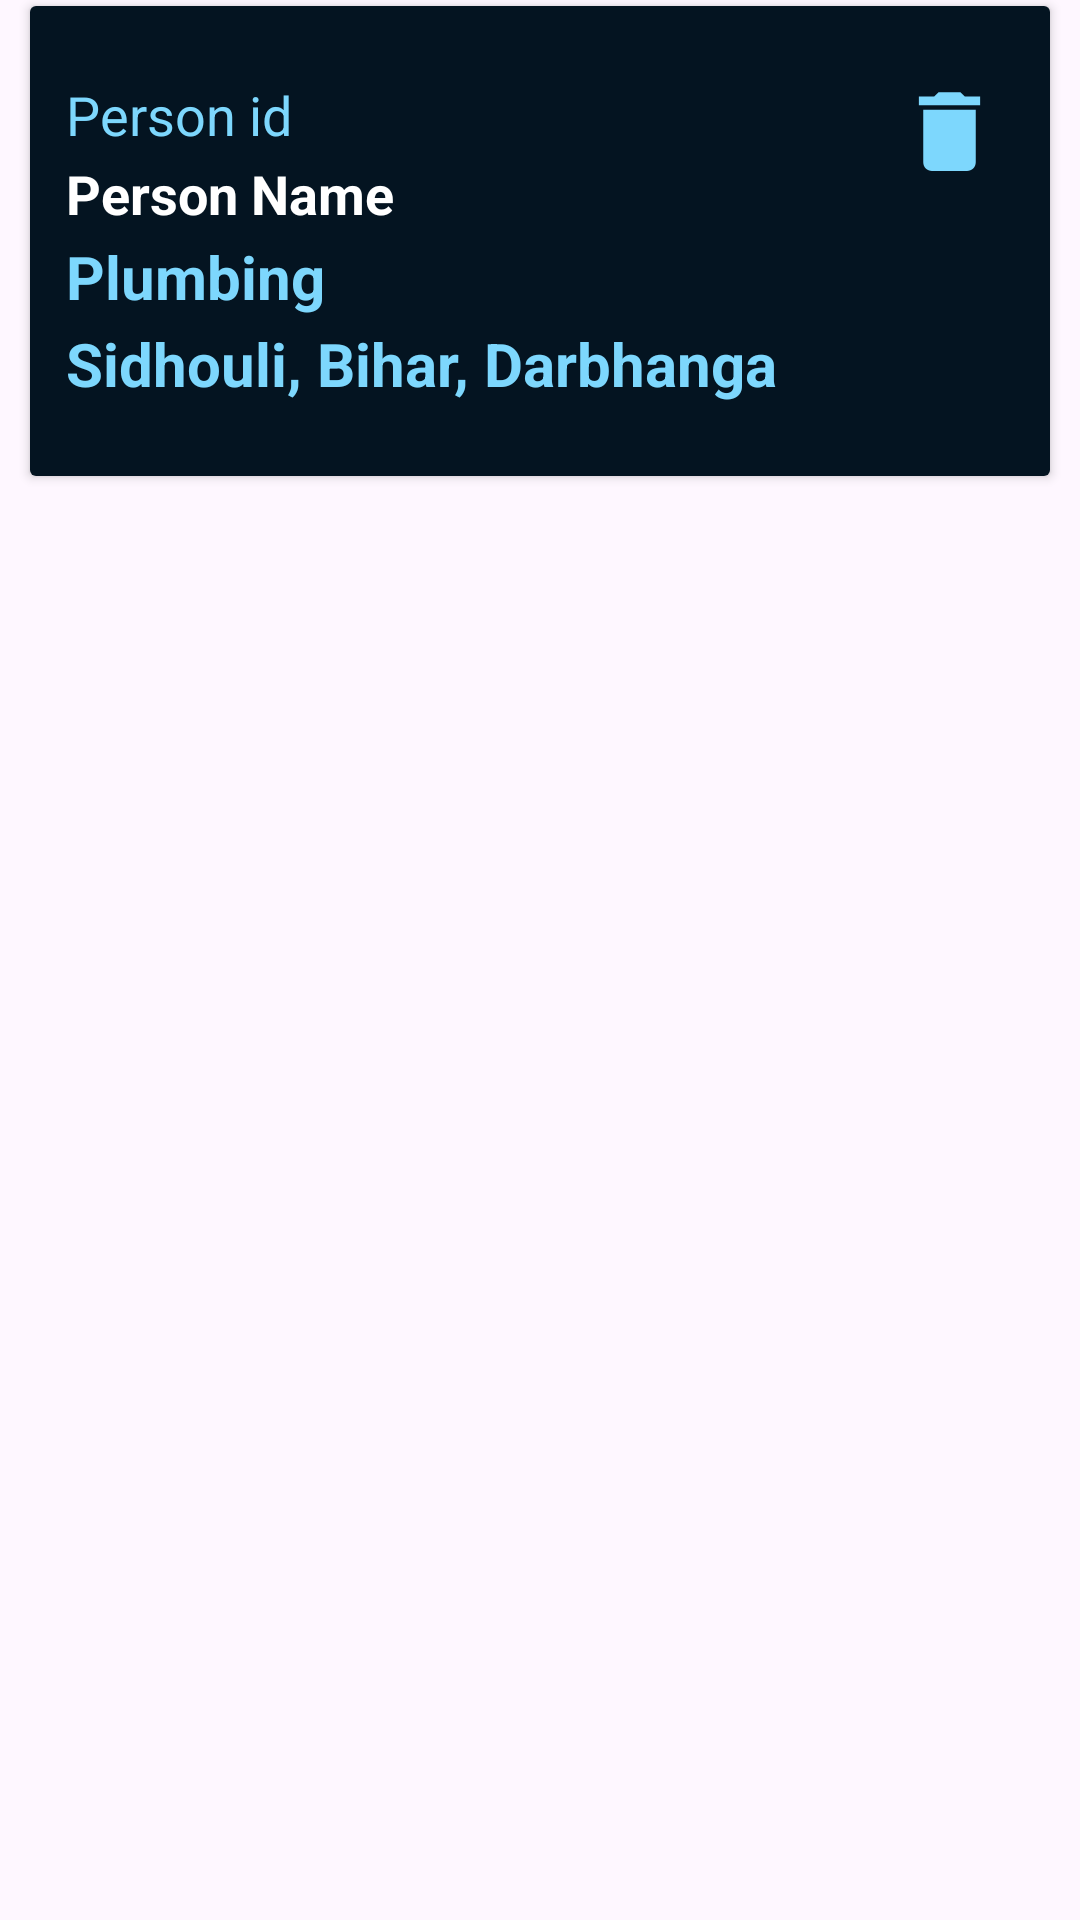

Icons on this 1080 x 1920 Android screen, each with its box as region(x1, y1, x2, y2):
delete: region(918, 92, 981, 171)
